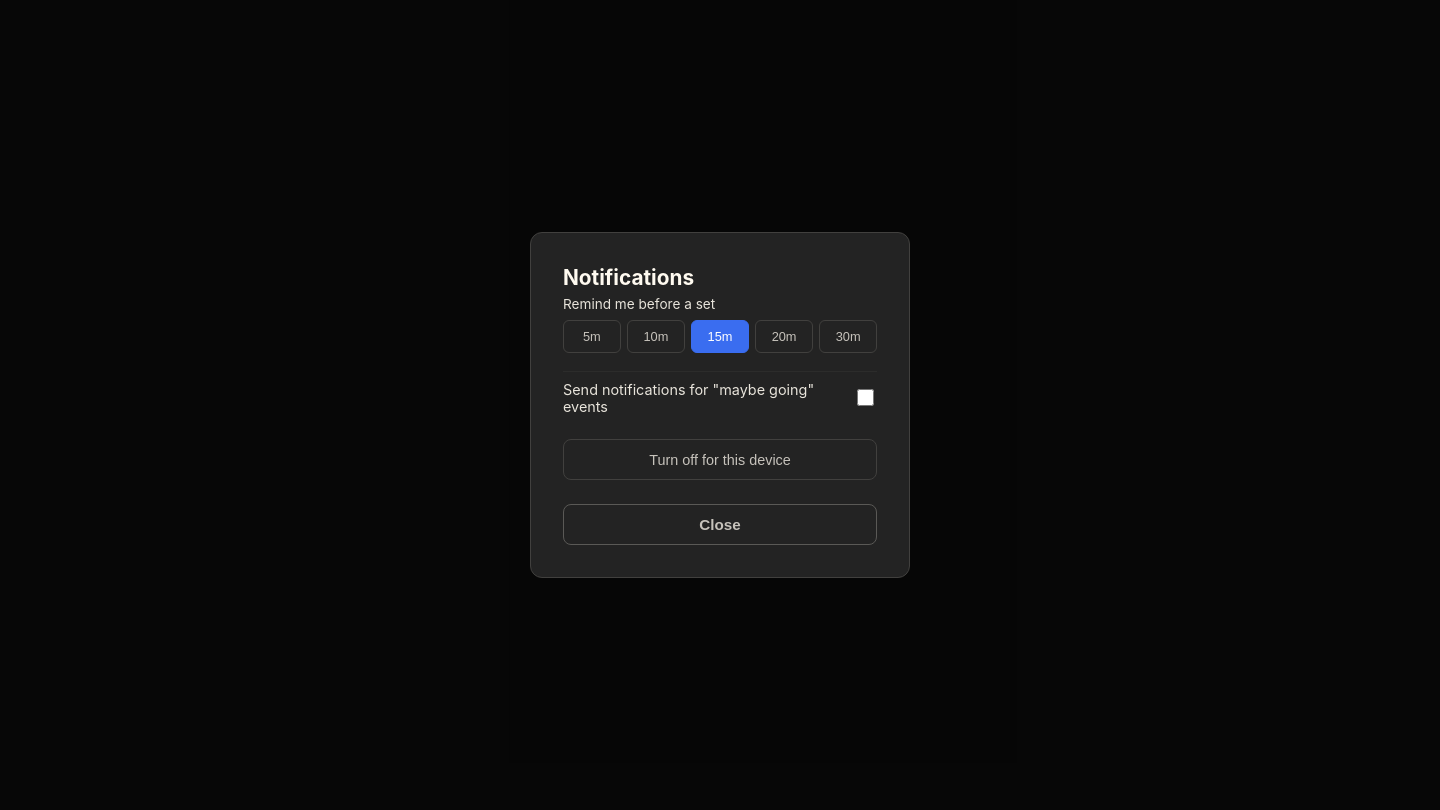
Test: NotificationsModal › reverts to clean when the draft is edited back to the stored values
Click the button "30m": (848, 337) x1=819 y1=320 x2=877 y2=353
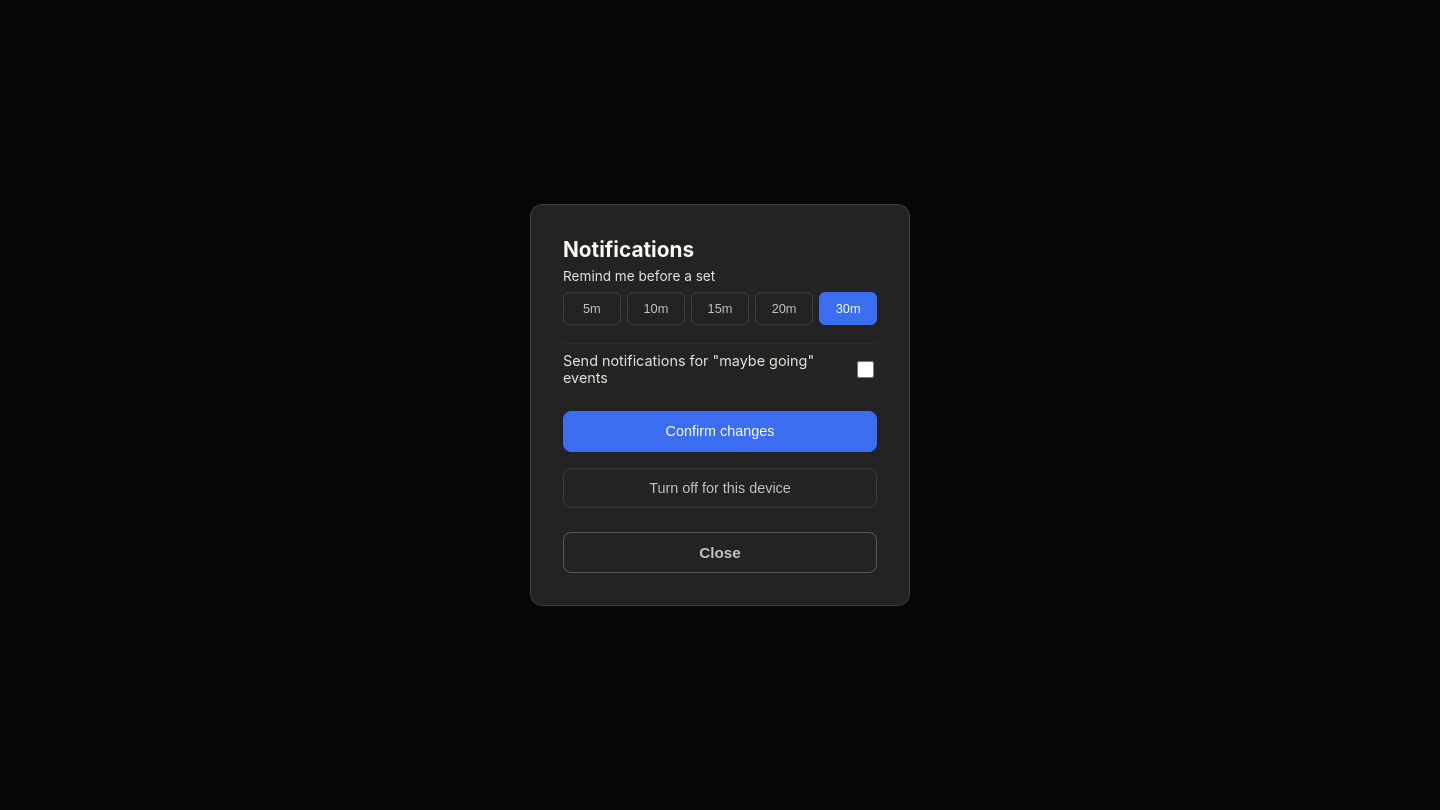
Expected: the button "Confirm changes" is shown, x1=563 y1=411 x2=877 y2=452
Click the button "15m": (720, 308) x1=691 y1=292 x2=749 y2=325
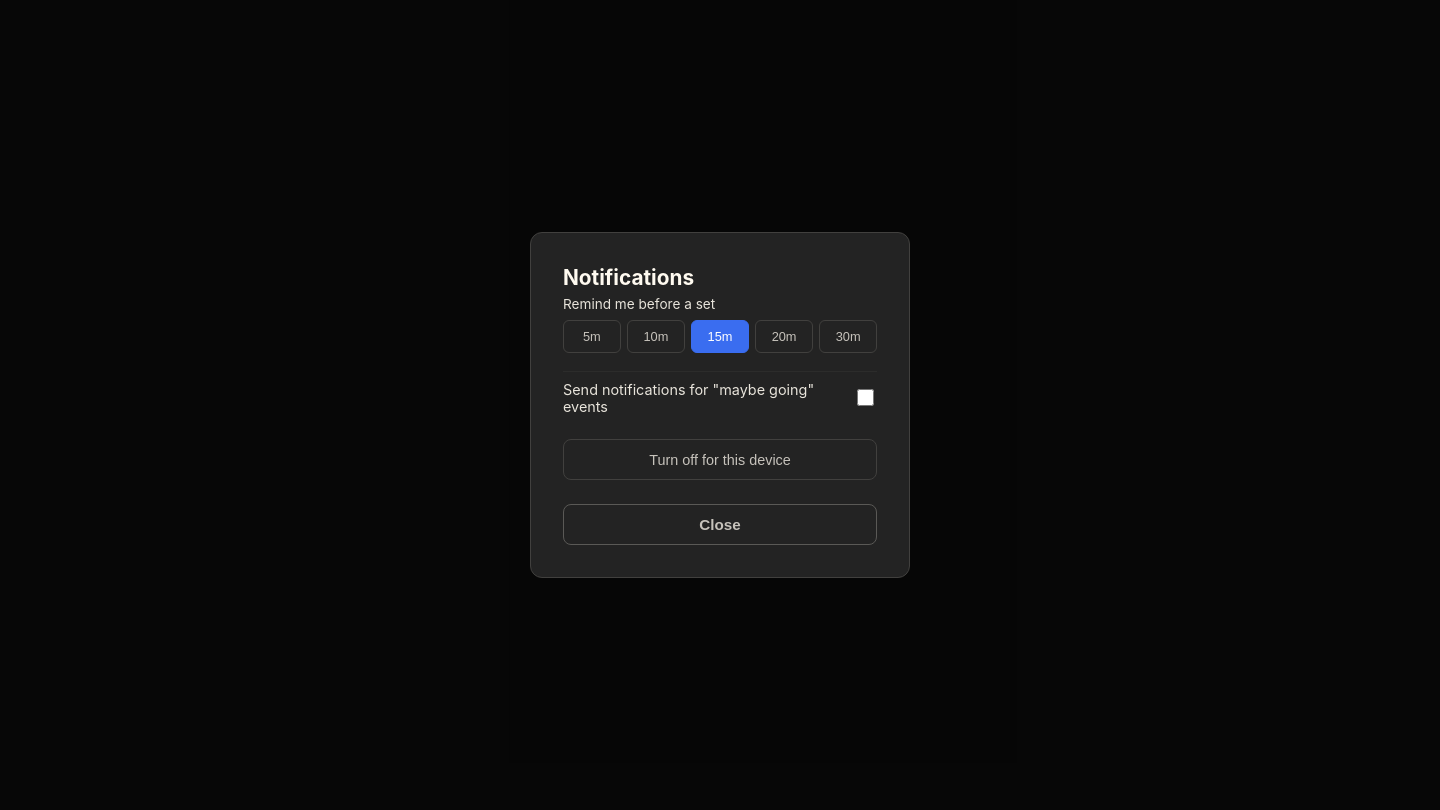
Expected: the button "Confirm changes" is gone
